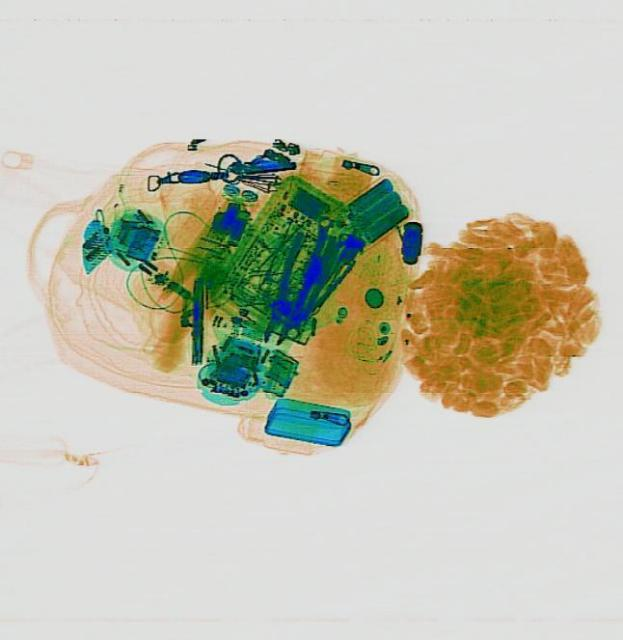Pliers: (241, 228, 354, 356)
Wrench: (279, 214, 332, 338)
